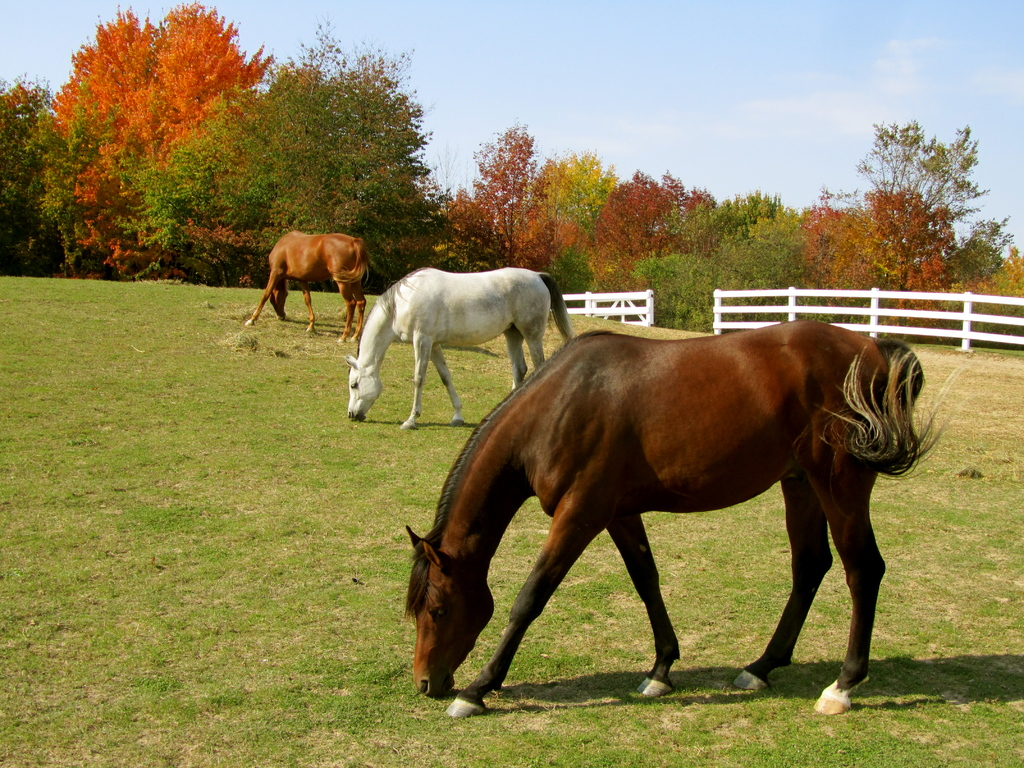horse: (400, 318, 960, 725), (244, 231, 377, 344)
